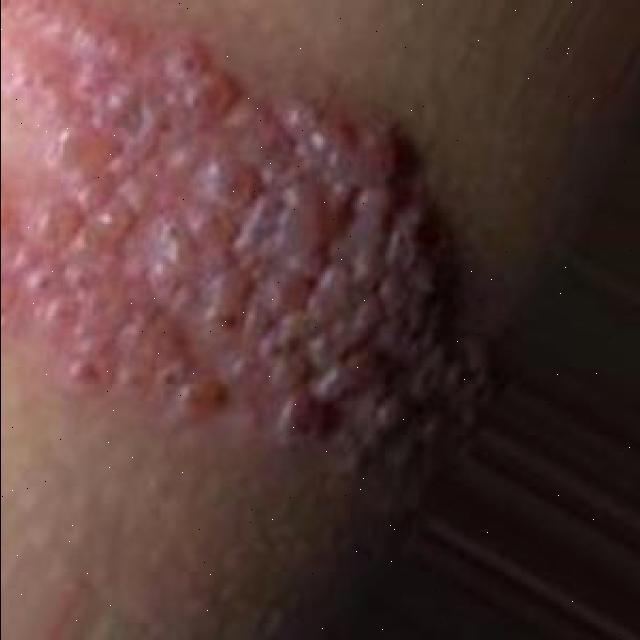Shingles: (0, 0, 474, 468)
